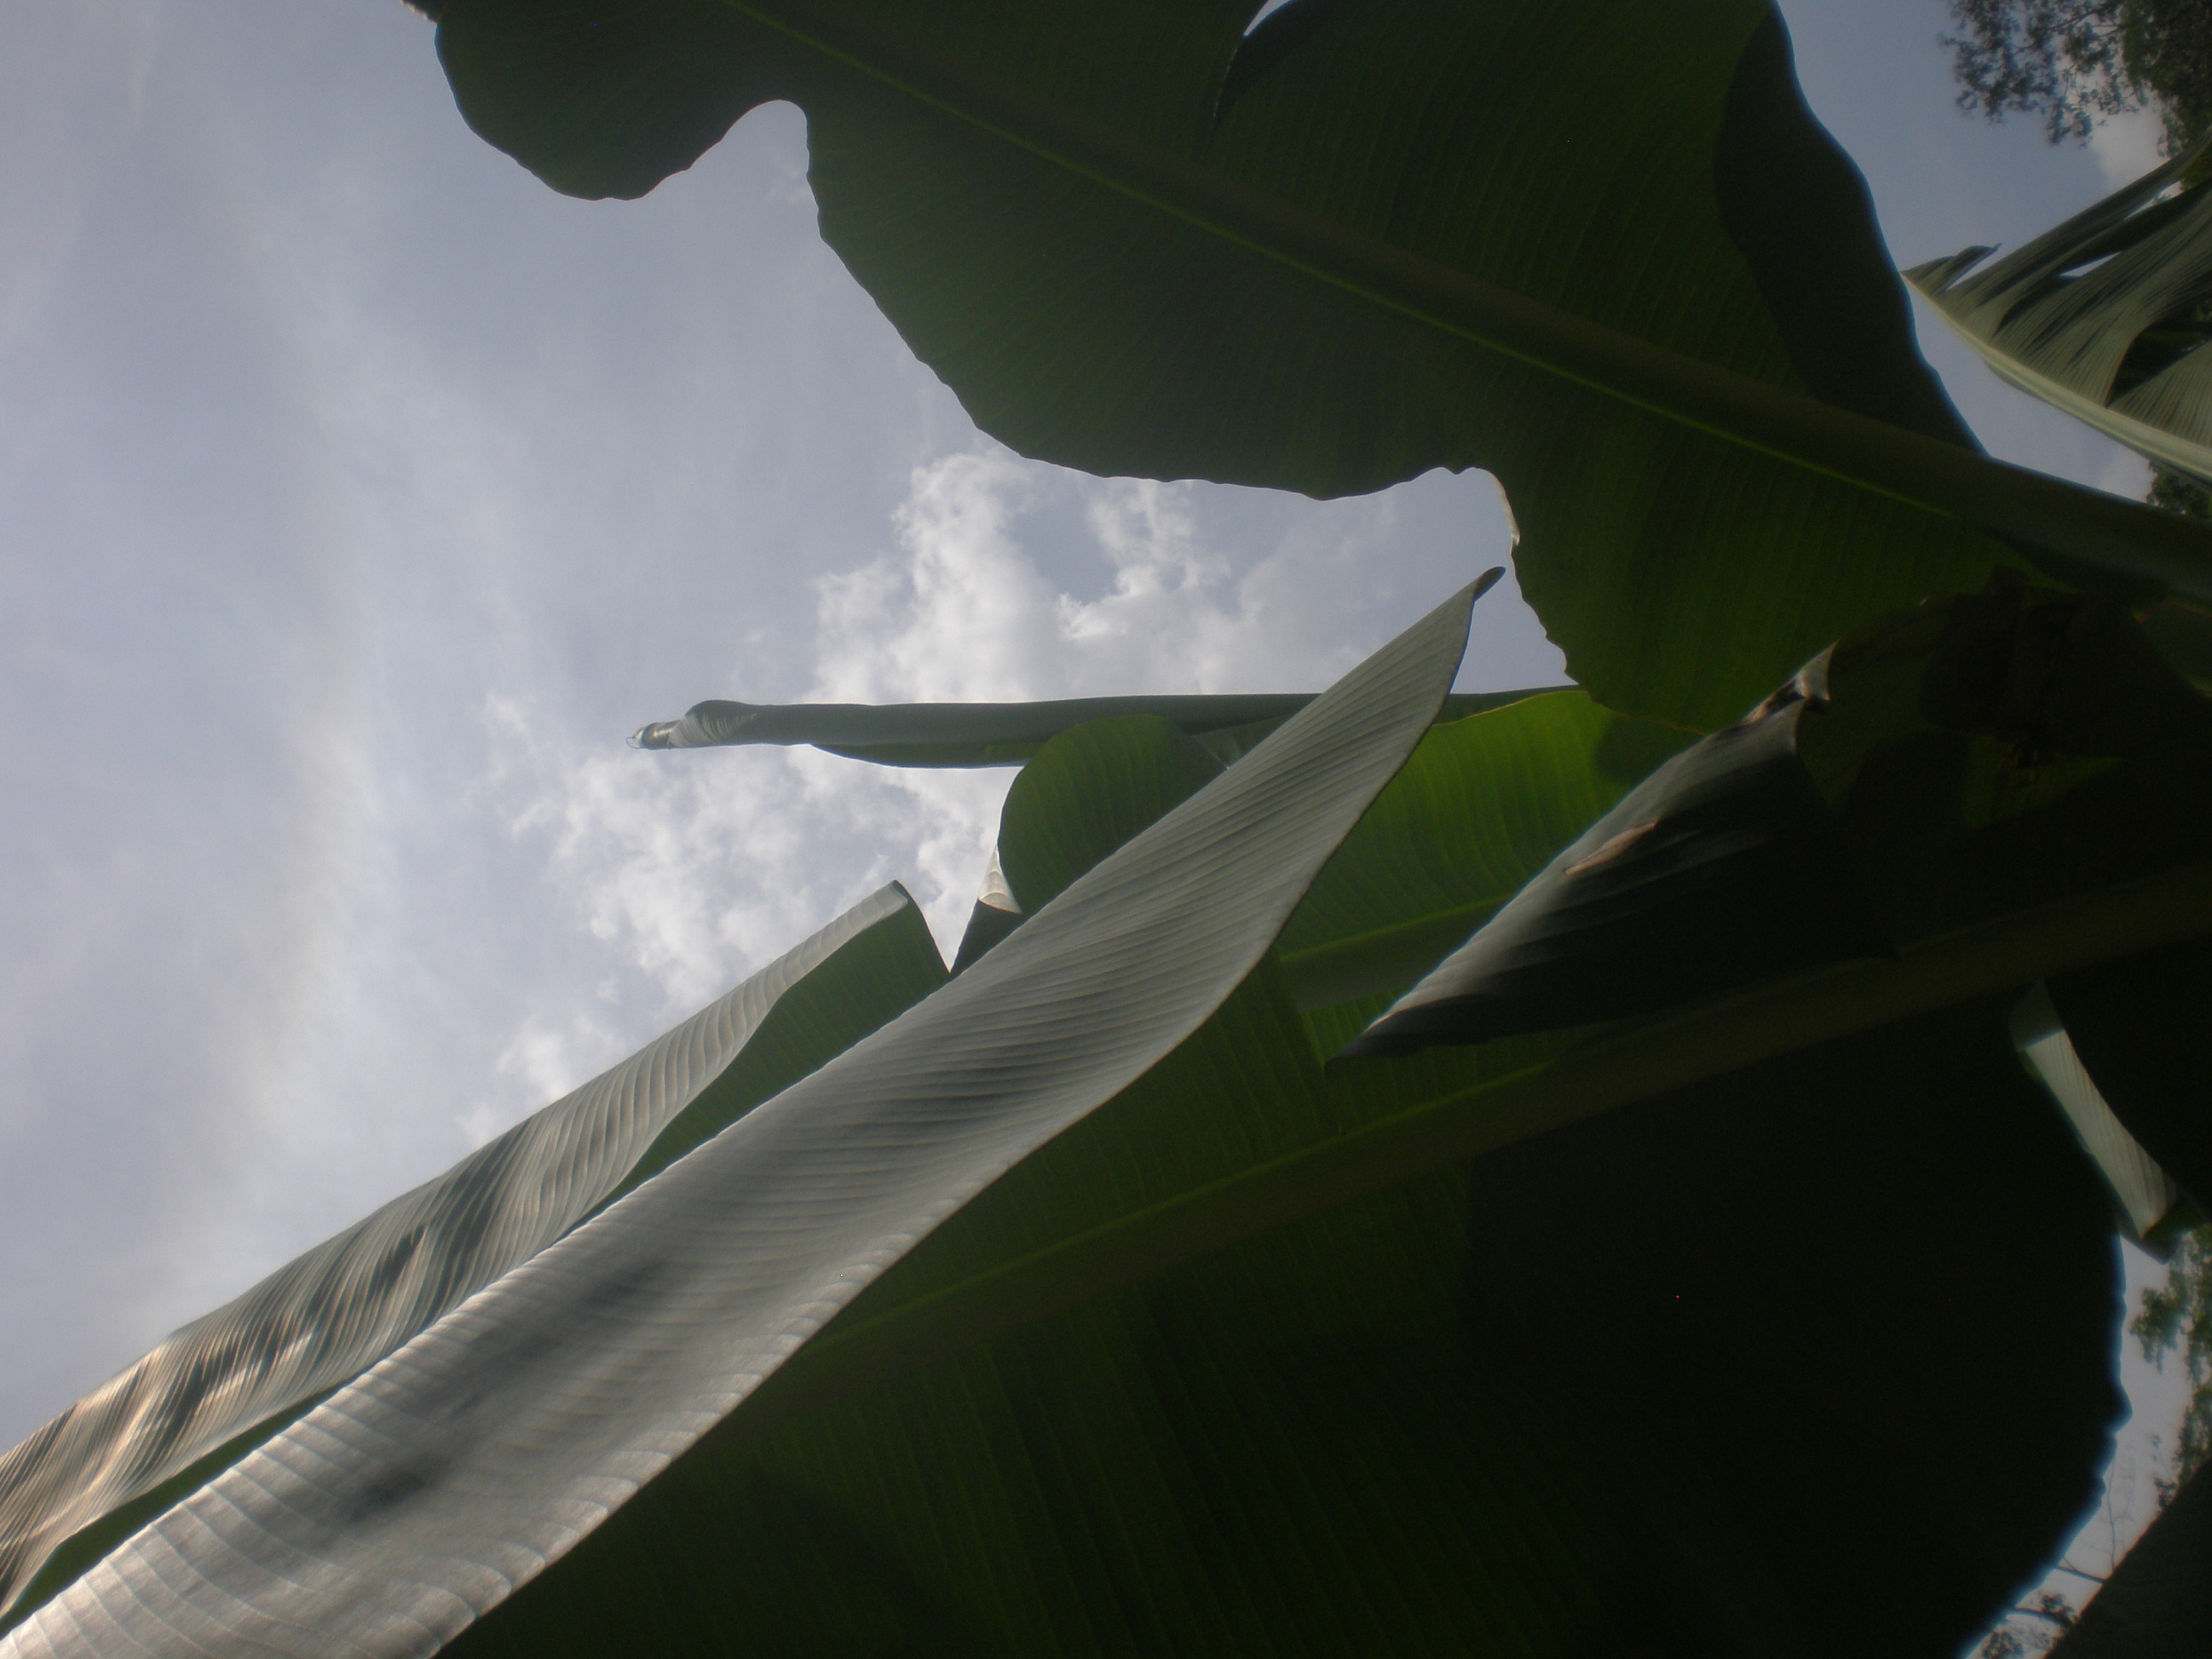candleleafs: (632, 690, 1294, 751)
